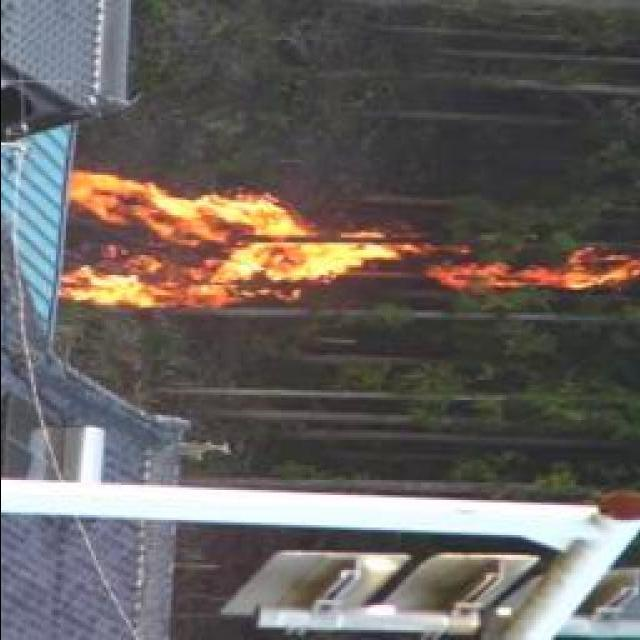Fire: (68, 165, 635, 312)
